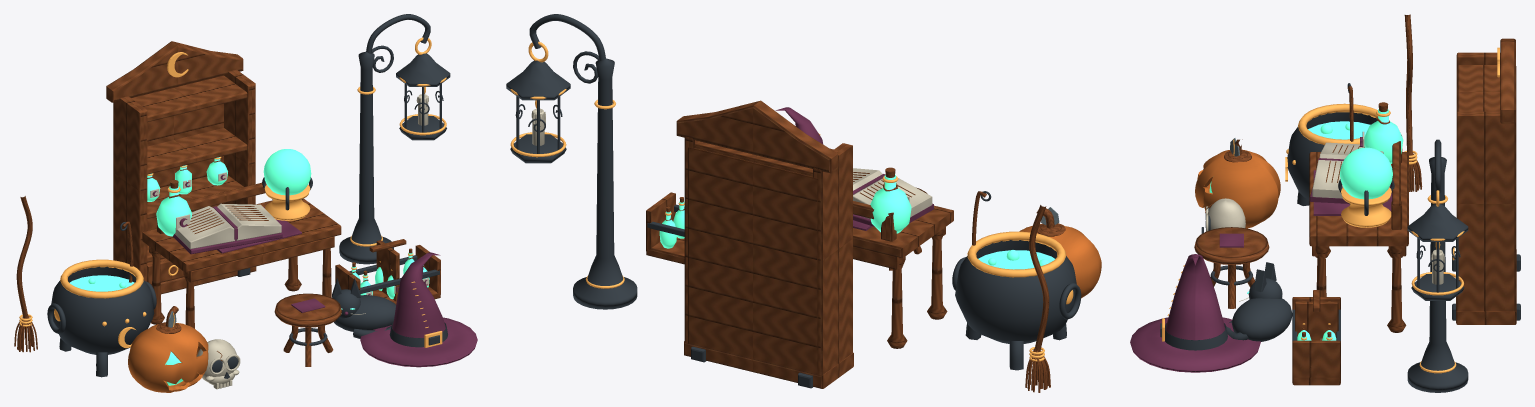
Rendered from hollowwick-halloween-hollowwick-witch-wo-63d498e7-starter-scene__21656.glb.
3 renders of one model, left to right at view 1: azimuth 30°, elevation 25°; view 2: azimuth 150°, elevation 25°; view 3: azimuth 270°, elevation 25°, orthographic. The views are drawn at different scales.
Parts seen in each view (by area): view 1: 000-apothecary-cabinet/0, 001-ritual-worktable/0, 008-crooked-lantern-post/0, 005-moon-cauldron/0, 014-crooked-witch-hat/0, 012-carved-grin-pumpkin/0, 002-open-ritual-grimoire/1, 010-curled-familiar-cat/0, 009-turned-witch-stool/0, 011-potion-carry-rack/0, 003-crystal-gazing-orb/1, 005-moon-cauldron/1 (+13 smaller); view 2: 000-apothecary-cabinet/0, 008-crooked-lantern-post/0, 005-moon-cauldron/0, 001-ritual-worktable/0, 005-moon-cauldron/1, 012-carved-grin-pumpkin/0, 007-bound-twig-broom/0, 011-potion-carry-rack/0, 004-round-elixir-bottle/0, 002-open-ritual-grimoire/1, 005-moon-cauldron/2, 008-crooked-lantern-post/1 (+1 smaller); view 3: 000-apothecary-cabinet/0, 014-crooked-witch-hat/0, 008-crooked-lantern-post/0, 001-ritual-worktable/0, 012-carved-grin-pumpkin/0, 011-potion-carry-rack/0, 010-curled-familiar-cat/0, 009-turned-witch-stool/0, 003-crystal-gazing-orb/1, 005-moon-cauldron/0, 002-open-ritual-grimoire/1, 003-crystal-gazing-orb/0 (+9 smaller).
Part boxes in pixels (<box>): 000-apothecary-cabinet/0: <box>106,41,256,294</box>; 001-ritual-worktable/0: <box>142,182,341,328</box>; 008-crooked-lantern-post/0: <box>339,14,450,264</box>; 005-moon-cauldron/0: <box>47,266,156,377</box>; 014-crooked-witch-hat/0: <box>360,252,477,367</box>; 012-carved-grin-pumpkin/0: <box>128,323,208,392</box>; 002-open-ritual-grimoire/1: <box>175,203,281,248</box>; 010-curled-familiar-cat/0: <box>332,278,395,338</box>; 009-turned-witch-stool/0: <box>274,293,341,366</box>; 011-potion-carry-rack/0: <box>335,239,440,304</box>; 003-crystal-gazing-orb/1: <box>263,149,311,195</box>; 005-moon-cauldron/1: <box>54,259,146,348</box>; 000-apothecary-cabinet/0: <box>676,100,853,388</box>; 008-crooked-lantern-post/0: <box>506,14,637,309</box>; 005-moon-cauldron/0: <box>952,240,1081,370</box>; 001-ritual-worktable/0: <box>853,201,953,348</box>; 005-moon-cauldron/1: <box>967,231,1073,304</box>; 012-carved-grin-pumpkin/0: <box>1019,223,1101,298</box>; 007-bound-twig-broom/0: <box>1025,205,1050,392</box>; 011-potion-carry-rack/0: <box>646,192,684,264</box>; 004-round-elixir-bottle/0: <box>870,175,911,233</box>; 002-open-ritual-grimoire/1: <box>853,168,932,218</box>; 005-moon-cauldron/2: <box>978,250,1054,269</box>; 008-crooked-lantern-post/1: <box>510,41,624,288</box>; 000-apothecary-cabinet/0: <box>1456,38,1516,324</box>; 014-crooked-witch-hat/0: <box>1130,254,1260,372</box>; 008-crooked-lantern-post/0: <box>1407,139,1468,392</box>; 001-ritual-worktable/0: <box>1309,135,1408,332</box>; 012-carved-grin-pumpkin/0: <box>1195,149,1280,228</box>; 011-potion-carry-rack/0: <box>1292,290,1340,385</box>; 010-curled-familiar-cat/0: <box>1226,262,1292,341</box>; 009-turned-witch-stool/0: <box>1194,227,1269,308</box>; 003-crystal-gazing-orb/1: <box>1339,147,1392,199</box>; 005-moon-cauldron/0: <box>1287,112,1377,205</box>; 002-open-ritual-grimoire/1: <box>1312,142,1383,198</box>; 003-crystal-gazing-orb/0: <box>1341,187,1391,227</box>.
Bounding box in the file's own units: 4.67 × 2.32 × 3.23.
Materials: 8 (5 with a texture image).
